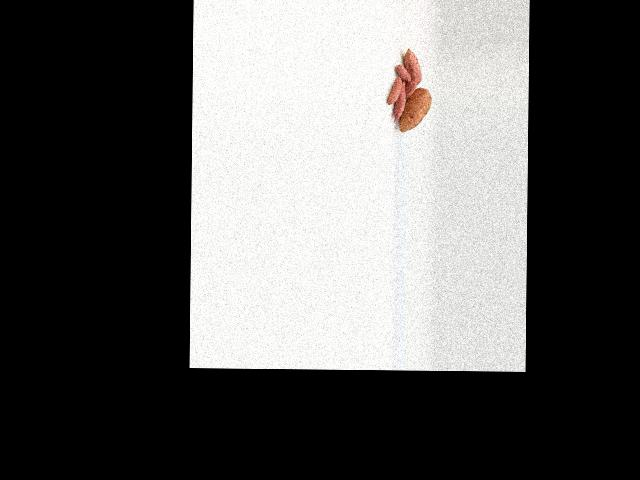sweet_potato: (403, 46, 422, 83)
